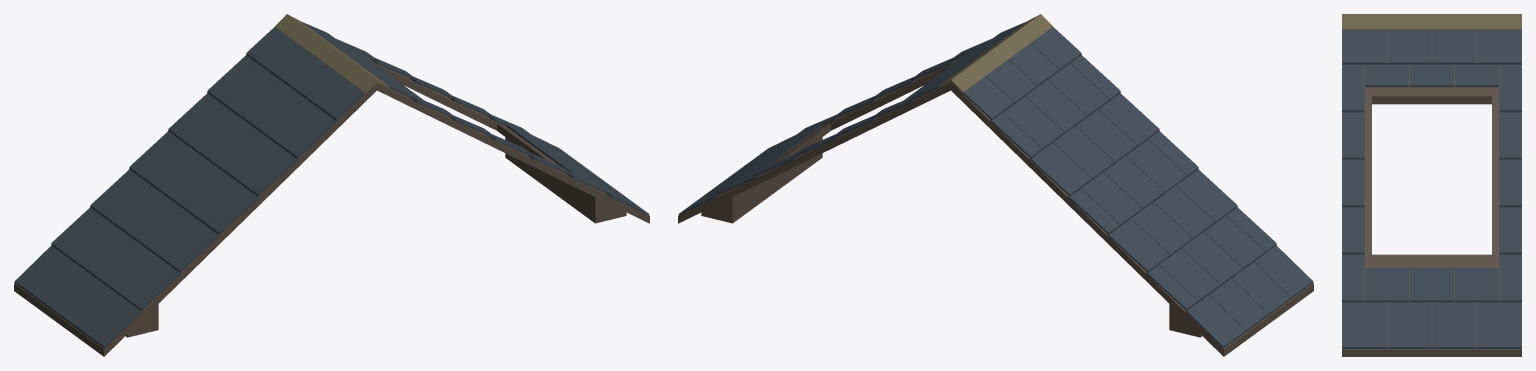
Rendered from rpg-mansion-gable-dormer-host-01.glb.
3 renders of one model, left to right at view 1: azimuth 30°, elevation 25°; view 2: azimuth 150°, elevation 25°; view 3: azimuth 270°, elevation 25°, orthographic.
Parts seen in each view (by area): view 1: rpg-mansion-gable-dormer-host-01; view 2: rpg-mansion-gable-dormer-host-01; view 3: rpg-mansion-gable-dormer-host-01.
Boxes of the visible parts, x1,y1,x2,y2 form: rpg-mansion-gable-dormer-host-01: (14,14,649,356); rpg-mansion-gable-dormer-host-01: (678,14,1313,356); rpg-mansion-gable-dormer-host-01: (1342,14,1521,356).
Size of the model in its own units: 4.2 by 1.55 by 1.2.
